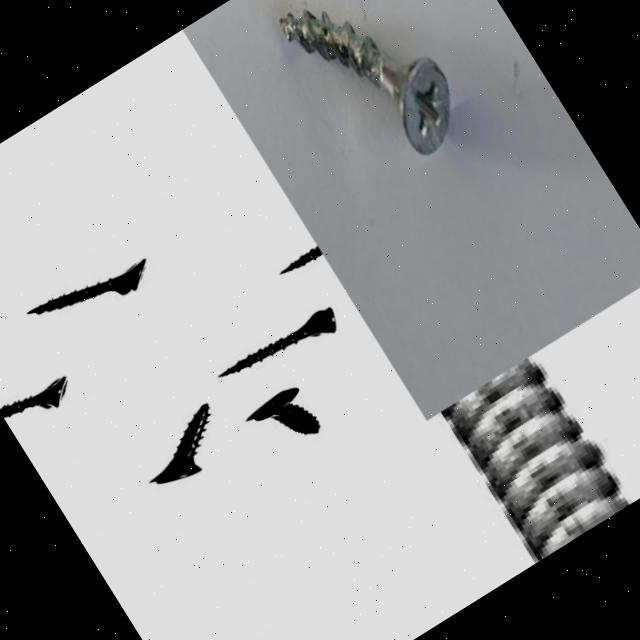Screw: (441, 355, 626, 562), (279, 10, 449, 154), (220, 306, 338, 376), (28, 258, 147, 313), (151, 402, 211, 483), (248, 386, 322, 433), (0, 375, 68, 417)
